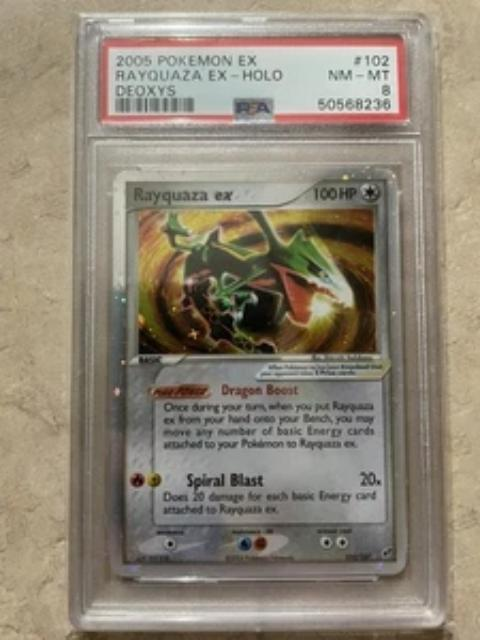Card: (105, 165, 410, 581)
Name: (127, 182, 238, 206)
